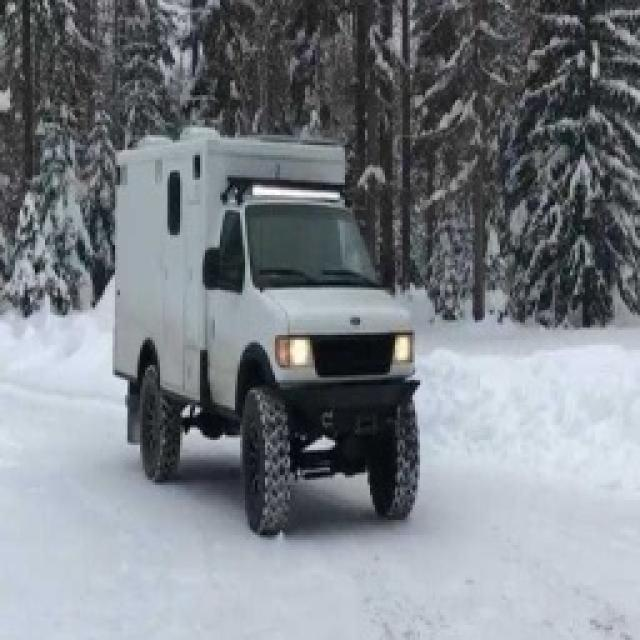ambulance: (112, 130, 420, 530)
